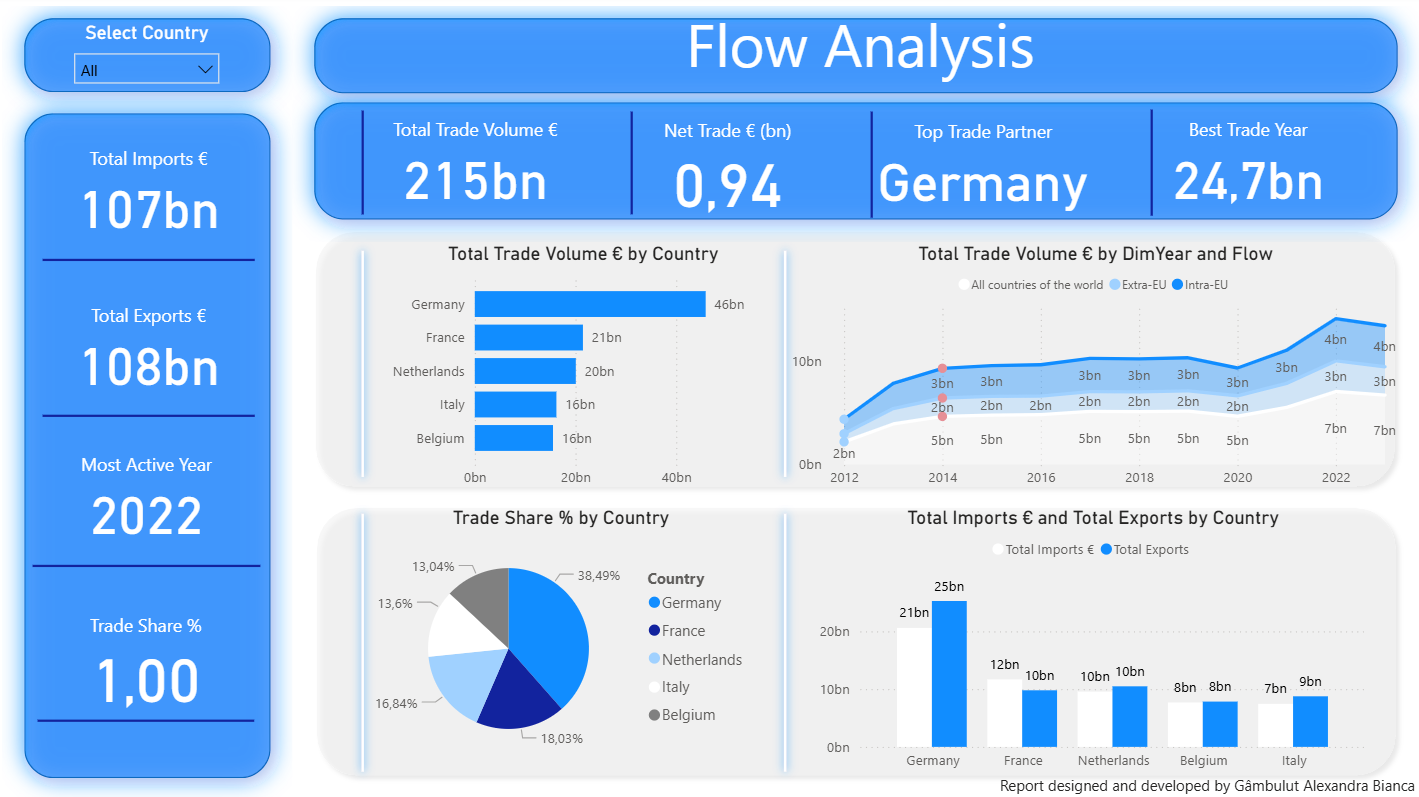

The dashboard page shown, as its layout file describes it:
{"tool":"powerbi","page":{"name":"Flow Analysis","canvas":[1280,720],"ordinal":2},"visuals":[{"type":"shape","box":[282.5,202.7,983.9,245.7],"z":0},{"type":"shape","box":[269.9,75.6,1010.1,144.9],"z":1000},{"type":"shape","box":[9.5,0,260.4,106.1],"z":2000},{"type":"slicer","title":"Select Country","fields":{"Values":["DimCountry.Country"]},"box":[64.1,22.1,150.2,64.1],"z":3000},{"type":"shape","box":[269.9,0,1010.1,107.1],"z":4000},{"type":"shape","box":[9.5,85.1,260.4,635.3],"z":5000},{"type":"shape","box":[283.2,449.7,983.8,257.3],"z":6000},{"type":"textbox","box":[289.8,1.1,976.5,85.1],"z":7000},{"type":"cardVisual","title":"YoY Imports % (vs previous year)","fields":{"Data":["Fact_ImportsExports.Net Trade € (bn)"]},"box":[568.1,98.7,184.8,102.9],"z":8000},{"type":"cardVisual","title":"YoY Imports % (vs previous year)","fields":{"Data":["Fact_ImportsExports.Trade Share %"]},"box":[36.8,539.7,204.8,115.5],"z":9000},{"type":"cardVisual","title":"YoY Imports % (vs previous year)","fields":{"Data":["Fact_ImportsExports.Top Trade Partner"]},"box":[782.3,98.7,212.1,105],"z":10000},{"type":"cardVisual","fields":{"Data":["Fact_ImportsExports.Total Trade Volume €"]},"box":[326.6,97.7,214.2,104],"z":11000},{"type":"cardVisual","title":"YoY Imports % (vs previous year)","fields":{"Data":["Fact_ImportsExports.Best Trade Year"]},"box":[1033.2,96.6,185.9,105],"z":12000},{"type":"cardVisual","title":"YoY Imports % (vs previous year)","fields":{"Data":["Fact_ImportsExports.Most Active Year"]},"box":[32.6,382.2,214.2,134.4],"z":13000},{"type":"cardVisual","title":"YoY Imports % (vs previous year)","fields":{"Data":["Fact_ImportsExports.Total Imports €"]},"box":[41,108.2,200.6,134.4],"z":14000},{"type":"cardVisual","fields":{"Data":["Fact_ImportsExports.Total Exports €"]},"box":[41,248.9,200.6,133.4],"z":15000},{"type":"barChart","fields":{"Category":["DimCountry.Country"],"Y":["Fact_ImportsExports.Total Trade Volume €"]},"box":[349.7,220.5,362.3,228.9],"z":16000},{"type":"clusteredColumnChart","fields":{"Category":["DimCountry.Country"],"Y":["Fact_ImportsExports.Total Imports €","Fact_ImportsExports.Total Exports"]},"box":[737.1,456.8,499.8,245.7],"z":17000},{"type":"shape","box":[677.3,455.7,68.3,246.8],"z":18000},{"type":"shape","box":[316.1,455.7,33.6,246.8],"z":19000},{"type":"pieChart","fields":{"Y":["Fact_ImportsExports.Trade Share %"],"Category":["DimCountry.Country"]},"box":[333.9,456.8,352.8,236.3],"z":20000},{"type":"stackedAreaChart","fields":{"Category":["DimYear.DimYear"],"Y":["Fact_ImportsExports.Total Trade Volume €"],"Series":["Fact_ImportsExports.Flow"]},"box":[711.9,220.5,554.4,228.9],"z":21000},{"type":"shape","box":[316.1,220.5,33.6,218.4],"z":22000},{"type":"shape","box":[677.3,220.5,68.3,218.4],"z":23000},{"type":"textbox","box":[843.2,693.4,436.8,26.6],"z":23001}]}

Visuals, with their boxes in screenshot pixels (x1, y1, x2, y2), scaled from the page's 1280x720 canvas onto the 1419x797 screenshot:
shape: x1=313, y1=224, x2=1404, y2=496
shape: x1=299, y1=84, x2=1418, y2=244
shape: x1=11, y1=0, x2=299, y2=117
"Select Country" slicer: x1=71, y1=24, x2=238, y2=95
shape: x1=299, y1=0, x2=1418, y2=119
shape: x1=11, y1=94, x2=299, y2=796
shape: x1=314, y1=498, x2=1405, y2=783
textbox: x1=321, y1=1, x2=1404, y2=95
"YoY Imports % (vs previous year)" cardVisual: x1=630, y1=109, x2=835, y2=223
"YoY Imports % (vs previous year)" cardVisual: x1=41, y1=597, x2=268, y2=725
"YoY Imports % (vs previous year)" cardVisual: x1=867, y1=109, x2=1102, y2=225
cardVisual - Fact_ImportsExports.Total Trade Volume €: x1=362, y1=108, x2=600, y2=223
"YoY Imports % (vs previous year)" cardVisual: x1=1145, y1=107, x2=1351, y2=223
"YoY Imports % (vs previous year)" cardVisual: x1=36, y1=423, x2=274, y2=572
"YoY Imports % (vs previous year)" cardVisual: x1=45, y1=120, x2=268, y2=269
cardVisual - Fact_ImportsExports.Total Exports €: x1=45, y1=276, x2=268, y2=423
barChart - DimCountry.Country x Fact_ImportsExports.Total Trade Volume €: x1=388, y1=244, x2=789, y2=497
clusteredColumnChart - DimCountry.Country x Fact_ImportsExports.Total Imports €: x1=817, y1=506, x2=1371, y2=778
shape: x1=751, y1=504, x2=827, y2=778
shape: x1=350, y1=504, x2=388, y2=778
pieChart - Fact_ImportsExports.Trade Share % x DimCountry.Country: x1=370, y1=506, x2=761, y2=767
stackedAreaChart - DimYear.DimYear x Fact_ImportsExports.Total Trade Volume €: x1=789, y1=244, x2=1404, y2=497
shape: x1=350, y1=244, x2=388, y2=486
shape: x1=751, y1=244, x2=827, y2=486
textbox: x1=935, y1=768, x2=1418, y2=796
